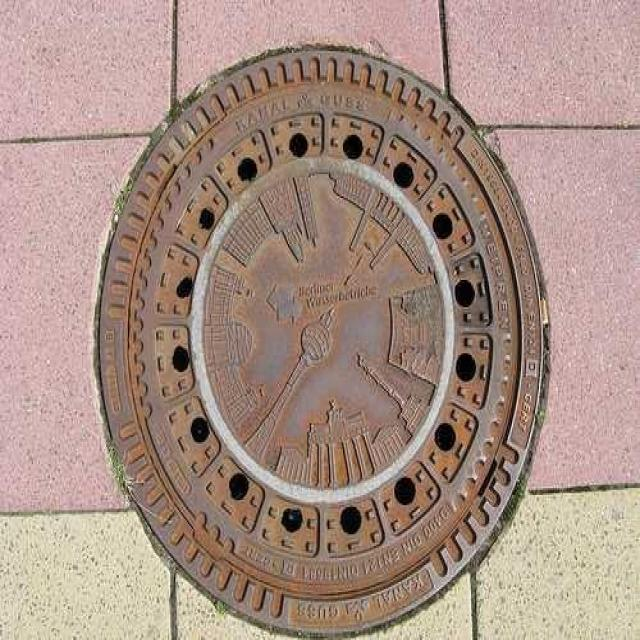manhole: (95, 47, 549, 633)
